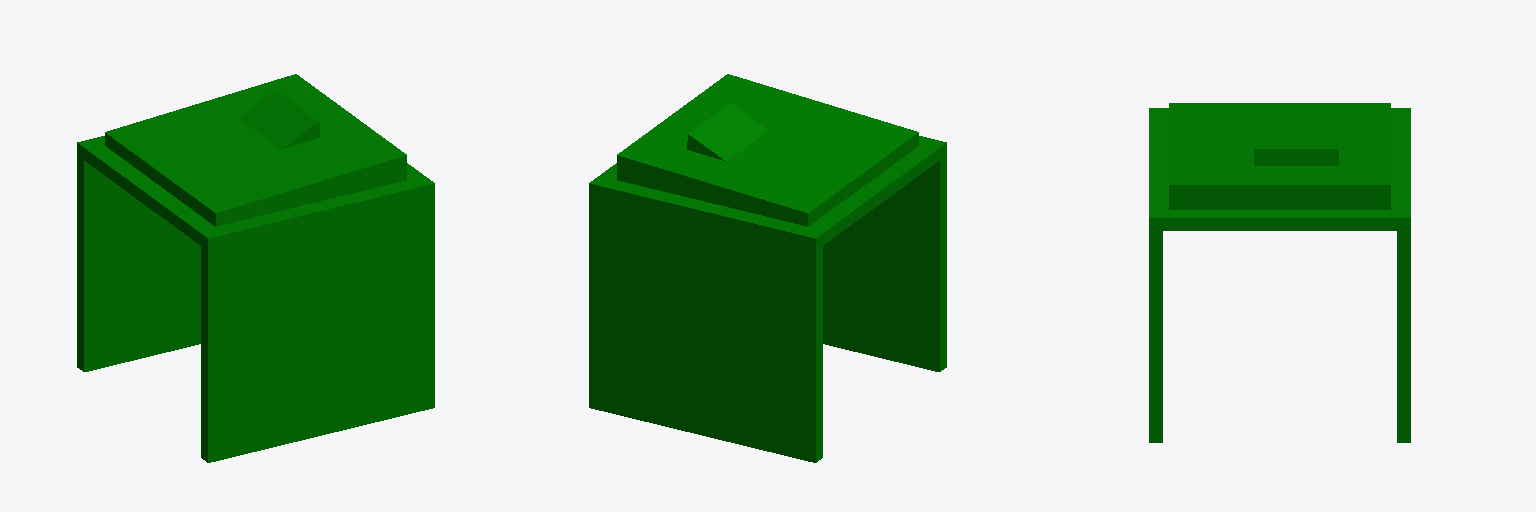
File: studio_controldesk2.obj
The picture shows the model from 3 angles: view 1: azimuth 30°, elevation 25°; view 2: azimuth 150°, elevation 25°; view 3: azimuth 270°, elevation 25°; orthographic projection.
Parts seen in each view (by area): view 1: Box006; view 2: Box006; view 3: Box006.
Boxes of the visible parts, <box> form: Box006: <box>77,74,434,462</box>; Box006: <box>589,74,946,462</box>; Box006: <box>1149,103,1410,442</box>.
Size of the model in its own units: 1.12 by 1.24 by 1.12.